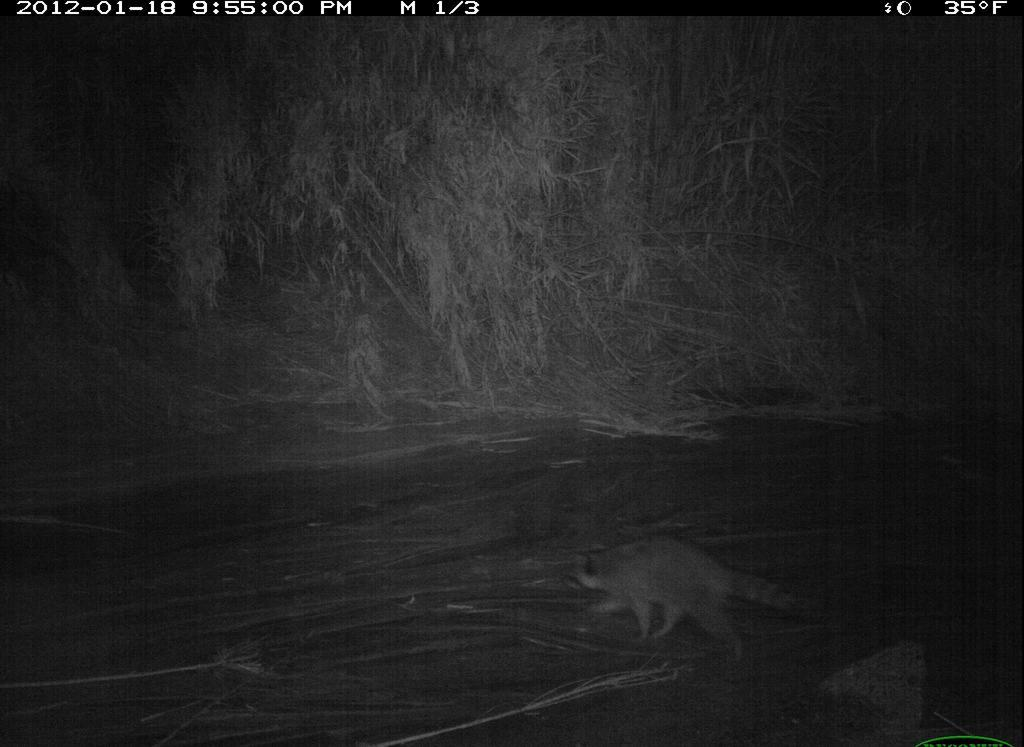raccoon: (553, 527, 815, 670)
